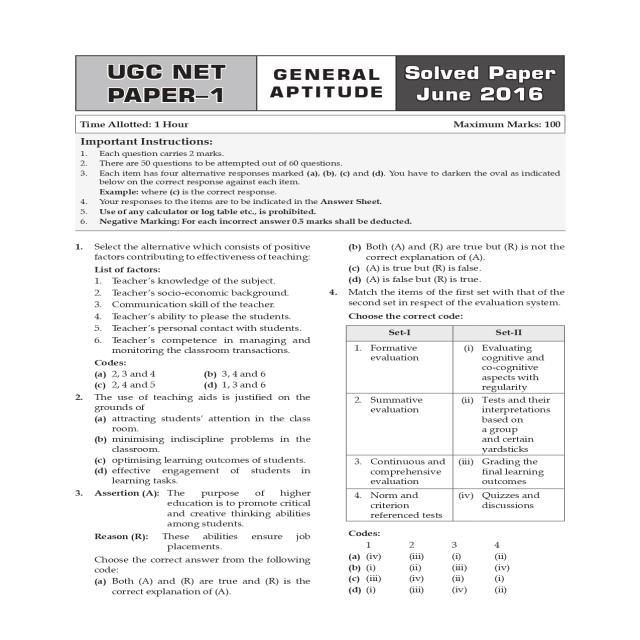Answer_Block: (328, 530, 608, 614), (18, 415, 332, 484), (326, 240, 606, 286), (14, 358, 328, 393), (11, 576, 325, 608)
Question_Answer_Block: (328, 285, 608, 614), (14, 240, 328, 393), (11, 480, 325, 608), (18, 394, 332, 484), (326, 240, 606, 286)
Question_Block: (328, 285, 608, 528), (14, 240, 328, 358), (11, 480, 325, 576), (18, 394, 332, 416)
Question_Paper_Area: (12, 243, 326, 621), (326, 241, 606, 618)
